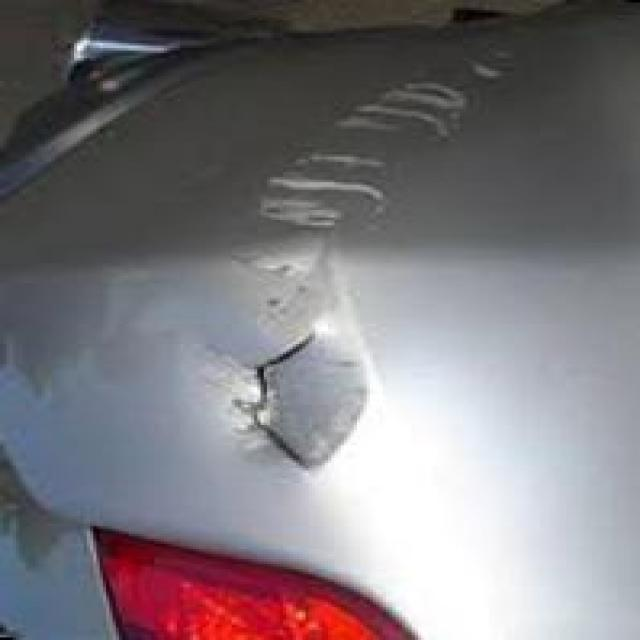scratch: (172, 25, 536, 288)
